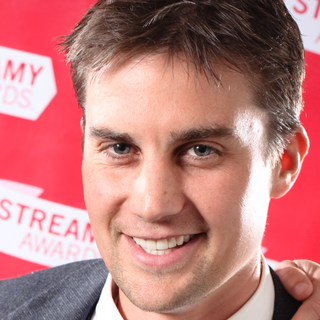eye: (176, 138, 227, 165), (97, 138, 144, 164)
